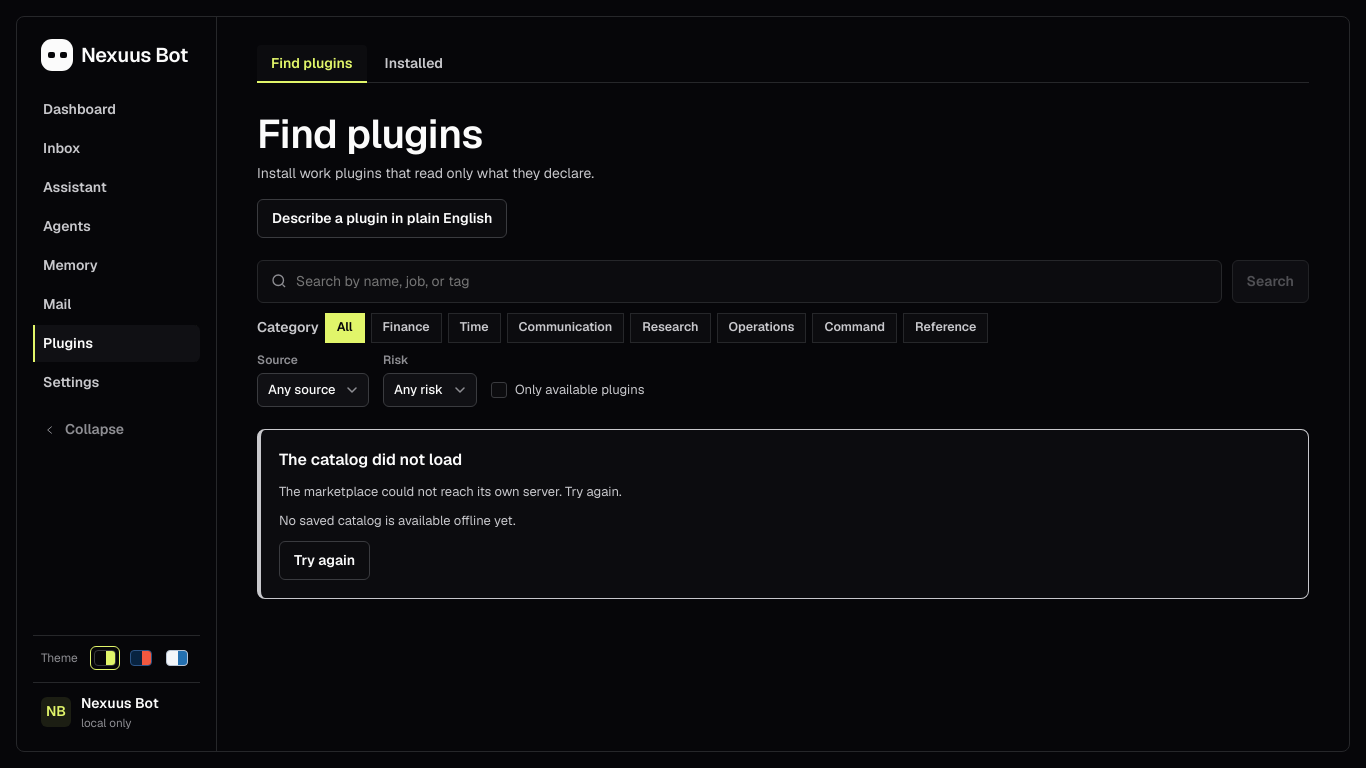
it: the marketplace catalog surface › shows the error, then recovers on retry without inventing rows
Check: the heading "The catalog did not load" is shown, box 279,448 -> 462,472
Check: the text "AR Aging" is not shown
Click the button "Try again".
click(325, 560)  # box 279,541 -> 370,580
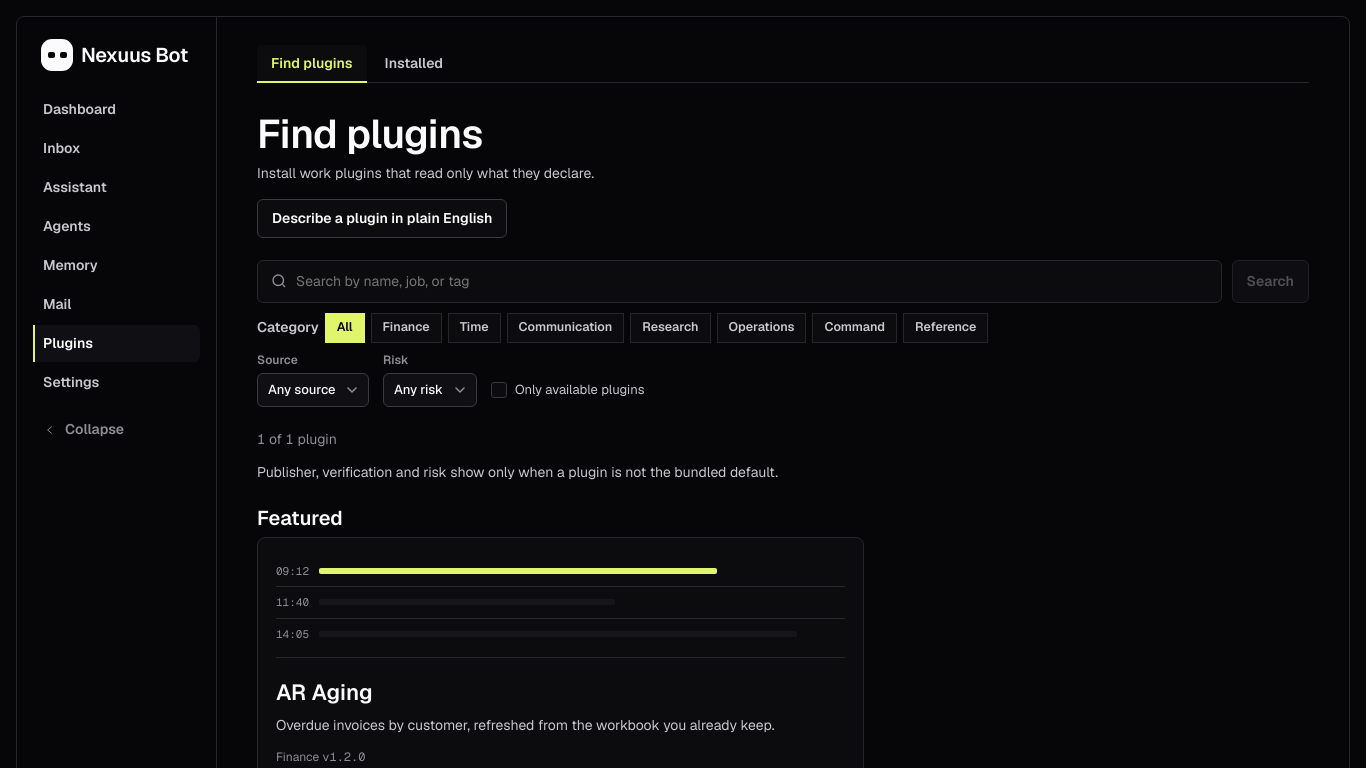
Check: the text "AR Aging" is shown, box 276,678 -> 373,706
